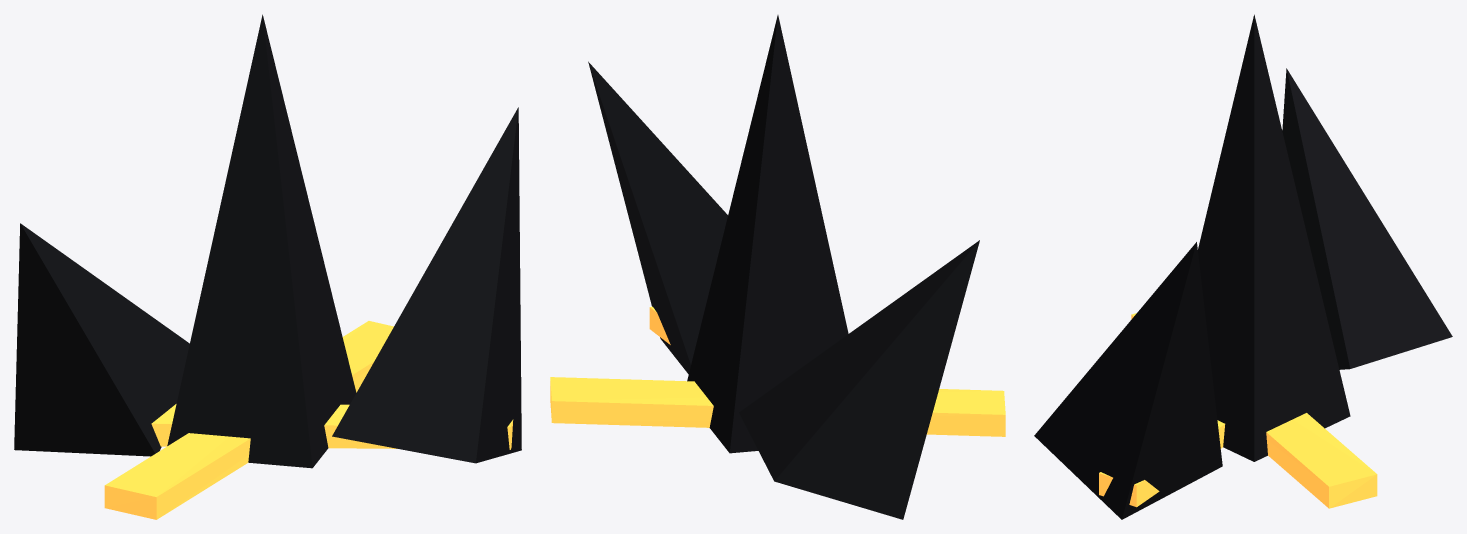
File: lava-glass-shard-a.glb
3 views of the same model, side by side, from view 1: azimuth 30°, elevation 25°; view 2: azimuth 150°, elevation 25°; view 3: azimuth 270°, elevation 25° (orthographic). The views are drawn at different scales.
Parts seen in each view (by area): view 1: lava-glass-shard-a; view 2: lava-glass-shard-a; view 3: lava-glass-shard-a.
Part boxes in pixels (bbox=[...]): lava-glass-shard-a: bbox=[14, 14, 521, 519]; lava-glass-shard-a: bbox=[550, 15, 1005, 519]; lava-glass-shard-a: bbox=[1034, 14, 1452, 519].
Size of the model in its own units: 1.2 by 1.1 by 1.
